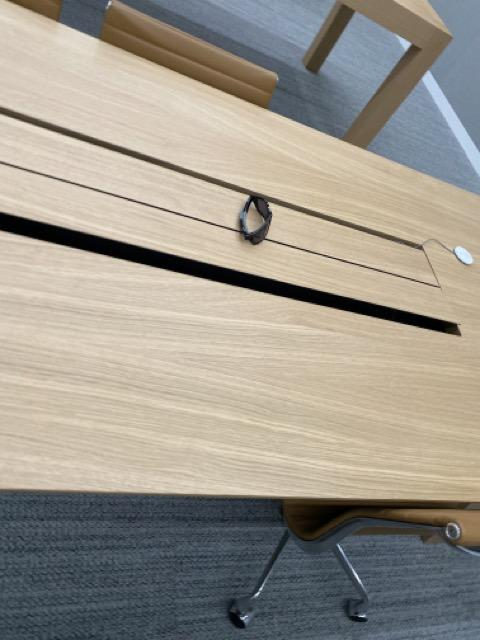Sunglasses: (240, 191, 274, 247)
